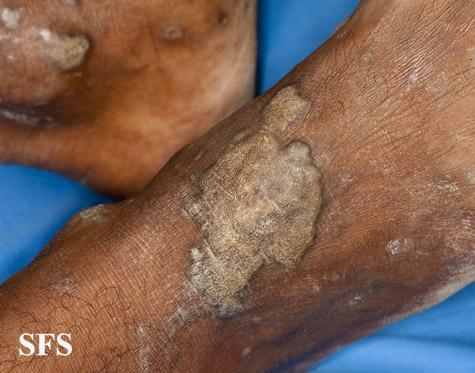hypertrophic lichen planus: (189, 79, 344, 337)
